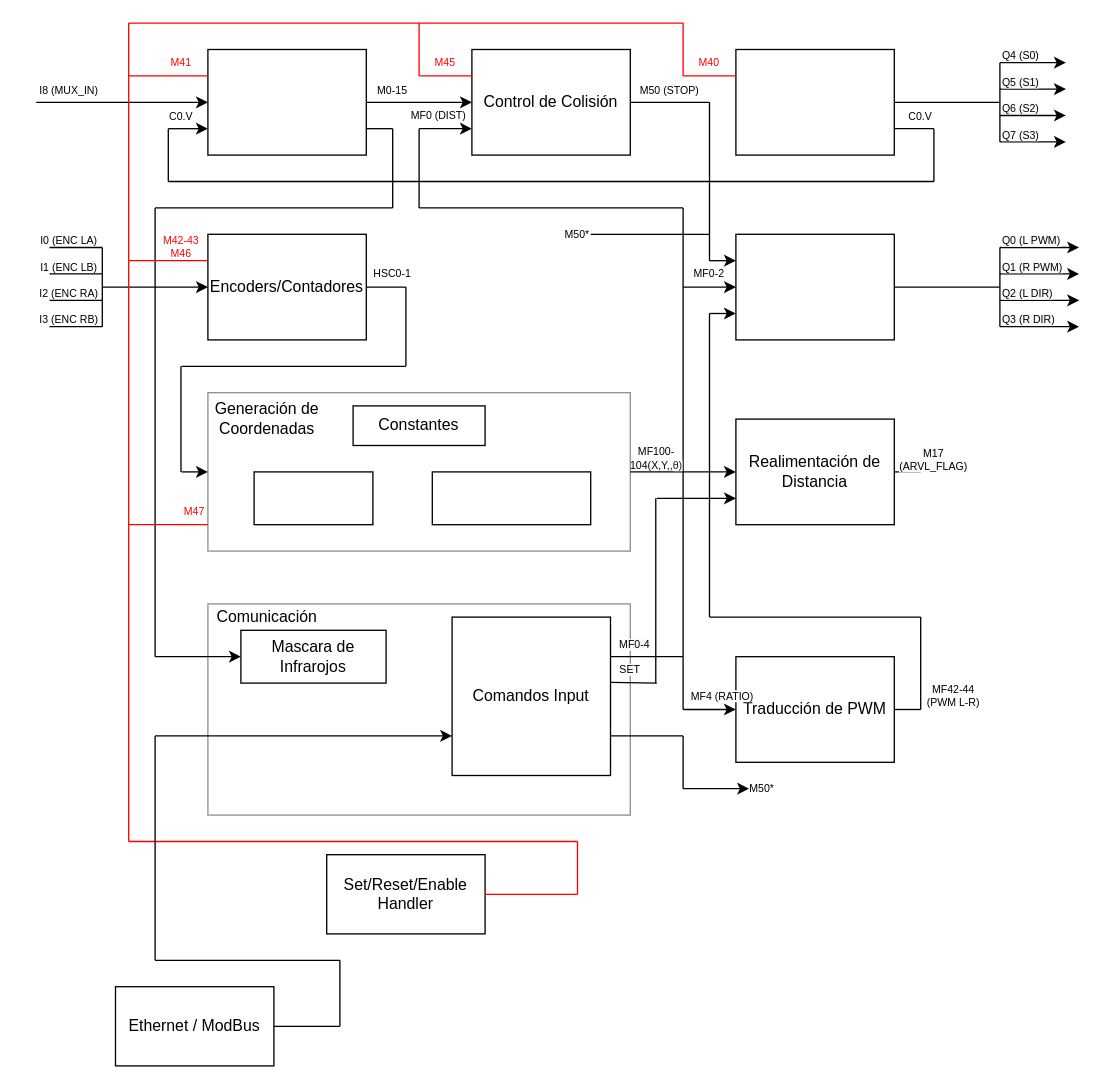
This 1113x1089 diagram has some shape labels left out. The shapes that lost their labels are listed below. From the top down, each one's centre as x and y in pixels, then its label:
At pixel 286 101: "Demux".
At pixel 814 101: "Generación de Sx".
At pixel 814 286: "Control de Motores".
At pixel 313 498: "Delta Pulsos".
At pixel 511 498: "Calculo Coordenadas".
